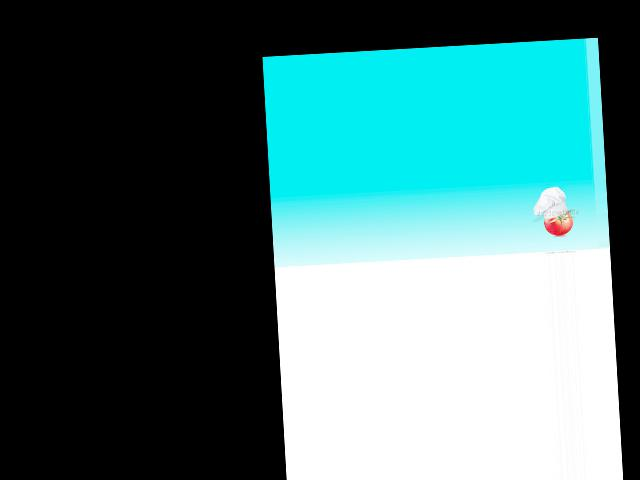tomato: (543, 210, 572, 235)
